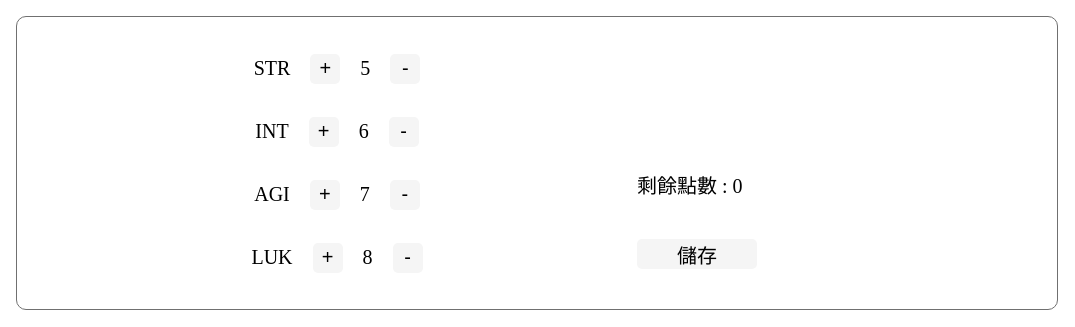
Scenario: HeroProfile component › 點擊 +/- 按鈕會調整剩餘點數
This screenshot has width=1075, height=327.
Click the button "-" in the row of "STR" at (405,68), box [390, 54, 420, 84]
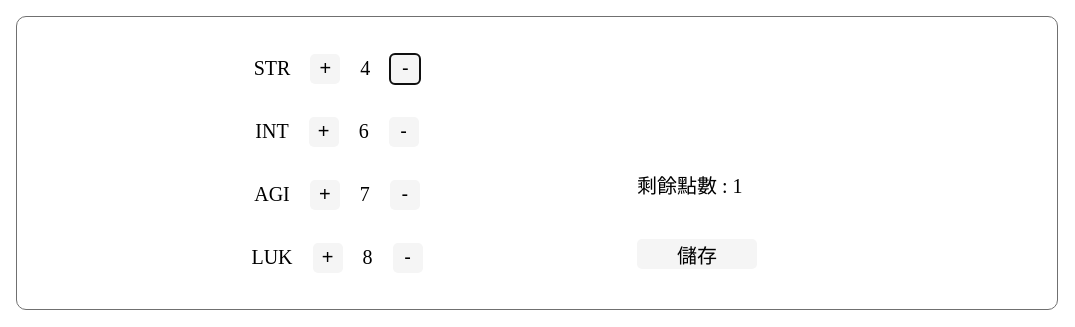
Result: the text with test id "remain-point" reads "剩餘點數 : 1" at [637, 175, 743, 197]
Click the button "+" next to "STR" at (325,68), box [310, 54, 340, 84]
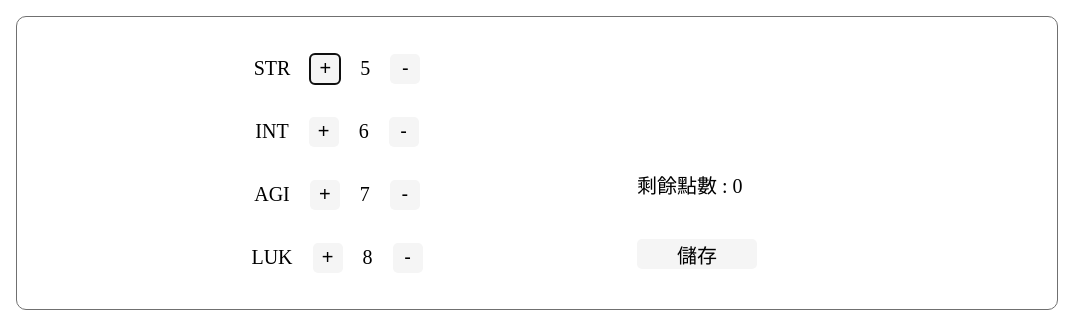
Result: the text with test id "remain-point" reads "剩餘點數 : 0" at [637, 175, 743, 197]
